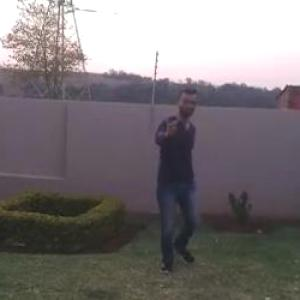takeoff-hand: (161, 107, 182, 138)
